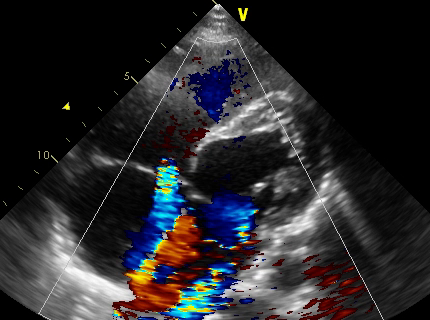TR: (100, 153, 181, 219)
